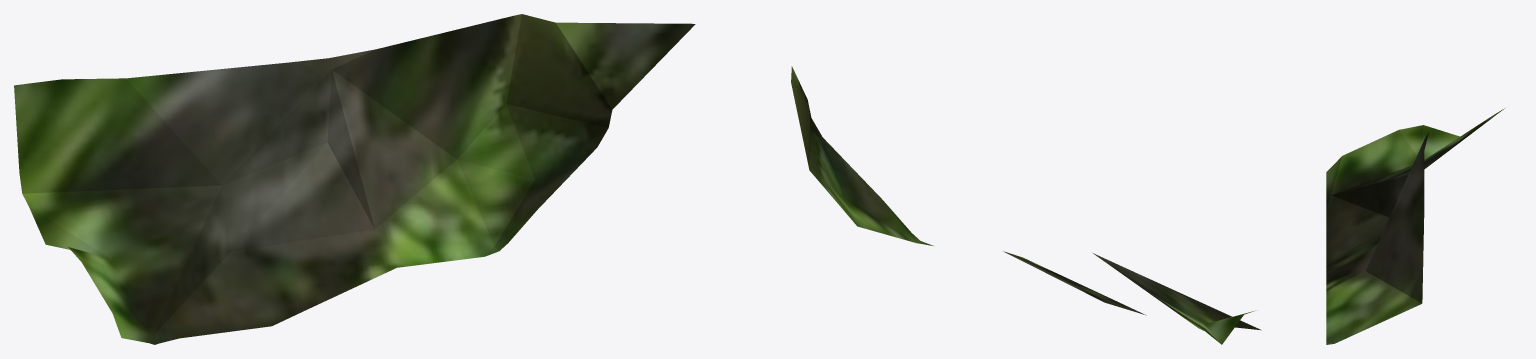
3 views of the same model, side by side, from view 1: azimuth 30°, elevation 25°; view 2: azimuth 150°, elevation 25°; view 3: azimuth 270°, elevation 25° (orthographic). The views are drawn at different scales.
Bounding box in the file's own units: 0.4374 × 0.1448 × 0.1417.
1 material, 1 textured.
